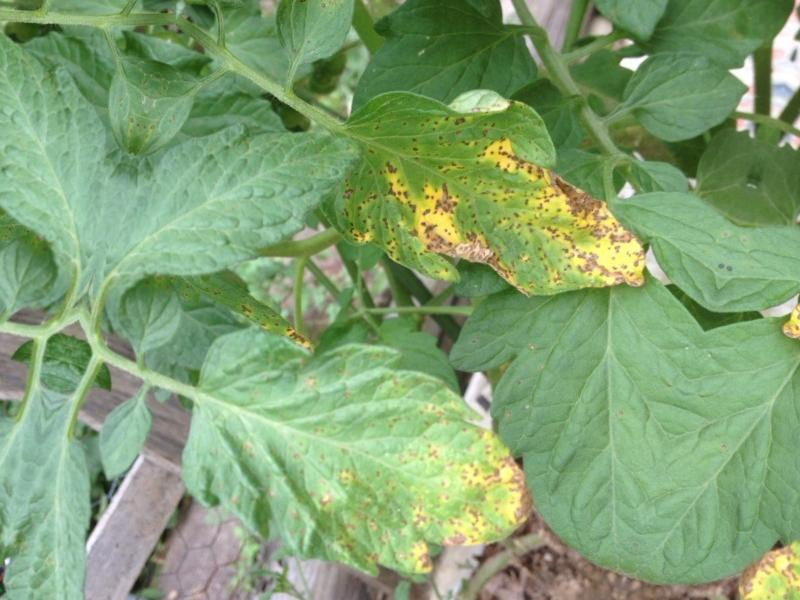Tomato Septoria leaf spot: (155, 283, 583, 600), (300, 45, 693, 342)
